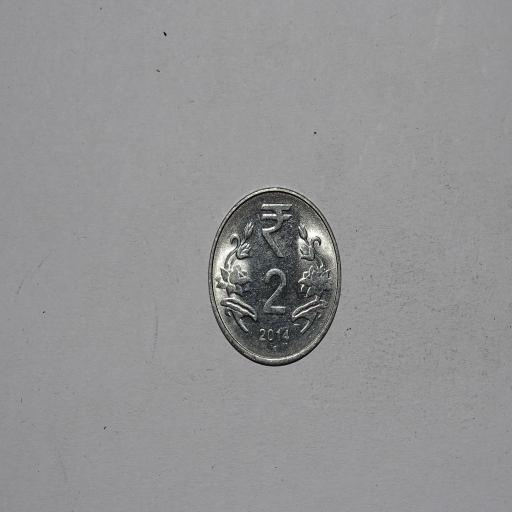rupee2: (206, 186, 340, 371)
